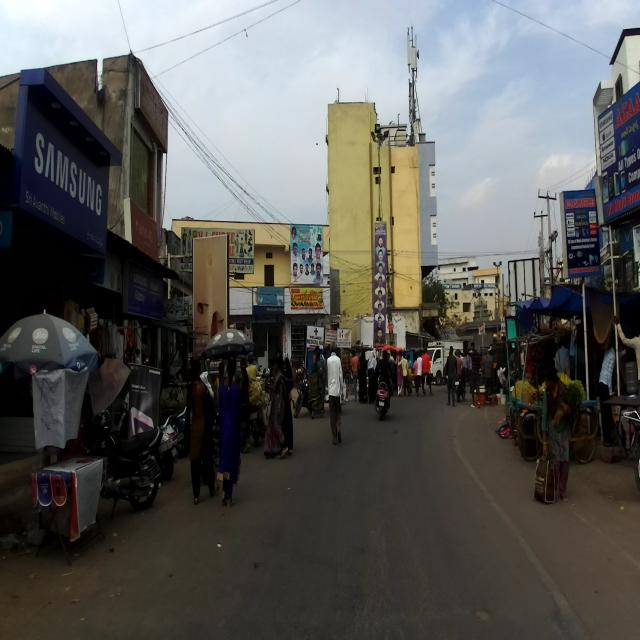motorcycle ahead at: (99, 422, 168, 508)
person ahead at: (324, 348, 344, 447)
